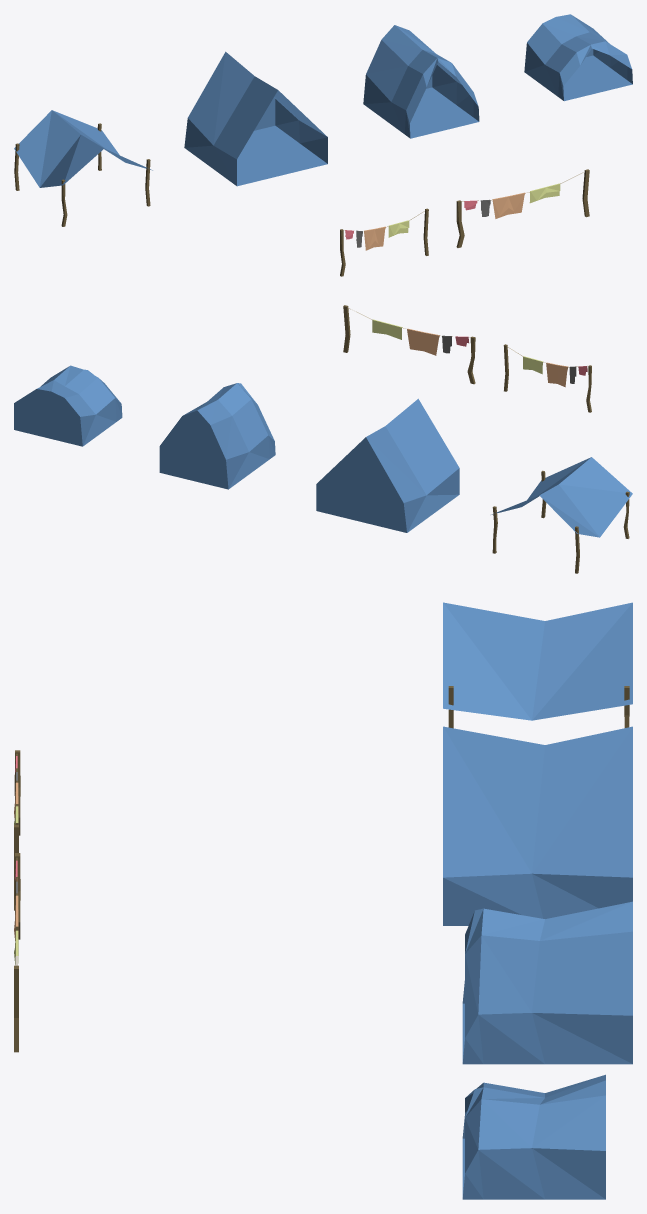
Rendered from Camp - einzelne Zelte -- normale getauscht.fbx.
The picture shows the model from 3 angles, top to bottom: view 1: azimuth 30°, elevation 25°; view 2: azimuth 150°, elevation 25°; view 3: azimuth 270°, elevation 25°; orthographic projection. The views are drawn at different scales.
Visible parts, largest first — view 1: Zelt, Zelt_1_2, Zelt_3, Zelt_2_1, Wäsche_1, Holz, Holz_2, Wäsche_1_2; view 2: Zelt, Zelt_1_2, Zelt_3, Zelt_2_1, Wäsche_1, Holz, Wäsche_1_2, Holz_2, Wäsche; view 3: Zelt, Zelt_1_2, Zelt_2_1, Zelt_3, Holz.
Boxes of the visible parts, left/top/right/bottom form: Zelt: left=184, top=51, right=327, bottom=186; Zelt_1_2: left=363, top=25, right=479, bottom=138; Zelt_3: left=524, top=14, right=632, bottom=101; Zelt_2_1: left=14, top=110, right=152, bottom=226; Wäsche_1: left=492, top=192, right=525, bottom=218; Holz: left=456, top=169, right=589, bottom=247; Holz_2: left=340, top=208, right=428, bottom=276; Wäsche_1_2: left=364, top=226, right=385, bottom=250; Zelt: left=316, top=398, right=459, bottom=532; Zelt_1_2: left=159, top=383, right=275, bottom=489; Zelt_3: left=14, top=365, right=122, bottom=446; Zelt_2_1: left=491, top=457, right=632, bottom=573; Wäsche_1: left=407, top=328, right=439, bottom=355; Holz: left=343, top=305, right=475, bottom=384; Wäsche_1_2: left=546, top=362, right=568, bottom=387; Holz_2: left=503, top=344, right=591, bottom=412; Wäsche: left=372, top=319, right=402, bottom=339; Zelt: left=443, top=726, right=632, bottom=925; Zelt_1_2: left=462, top=901, right=632, bottom=1064; Zelt_2_1: left=443, top=602, right=632, bottom=728; Zelt_3: left=462, top=1074, right=605, bottom=1199; Holz: left=14, top=853, right=20, bottom=1052.
Size of the model in its own units: 1429 by 205 by 738.
